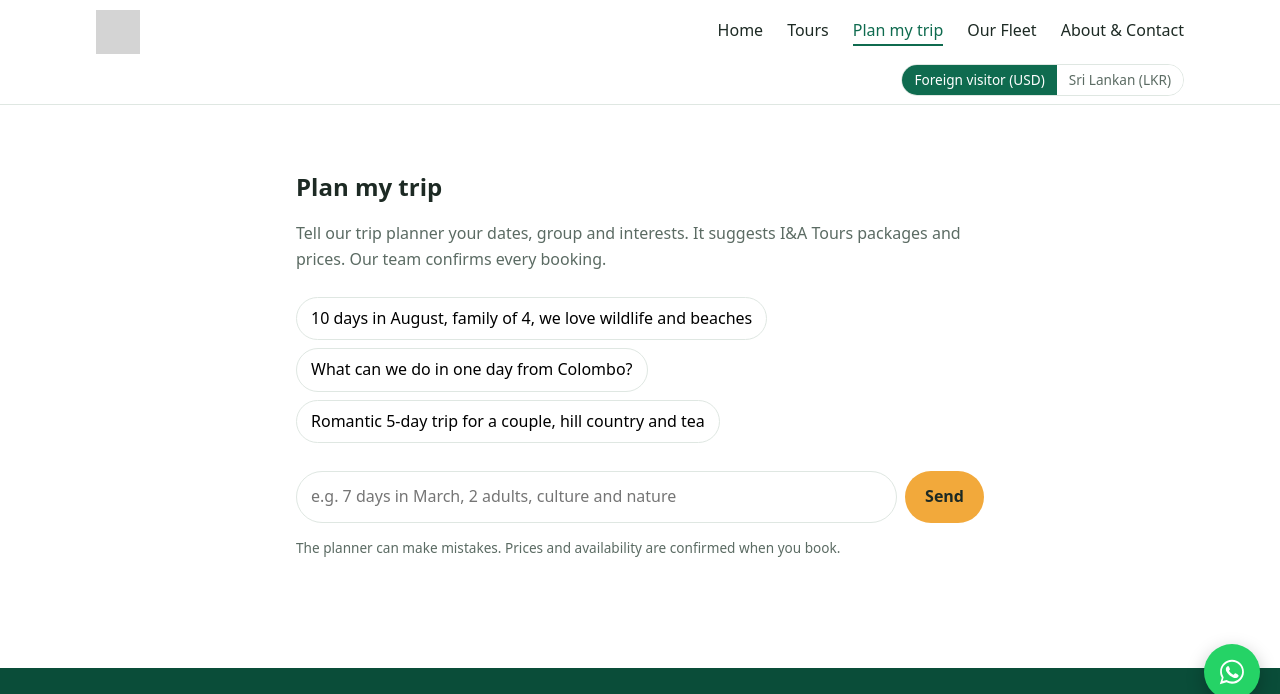
Test: trip planner › chats and links to suggested tours
The image size is (1280, 694).
expect the link "Plan my trip" is shown: met, box top-left (853, 18), bottom-right (943, 46)
Type "We want to see leopards" into the field named "Your message". click: (597, 497)
box: top-left (296, 471), bottom-right (897, 523)
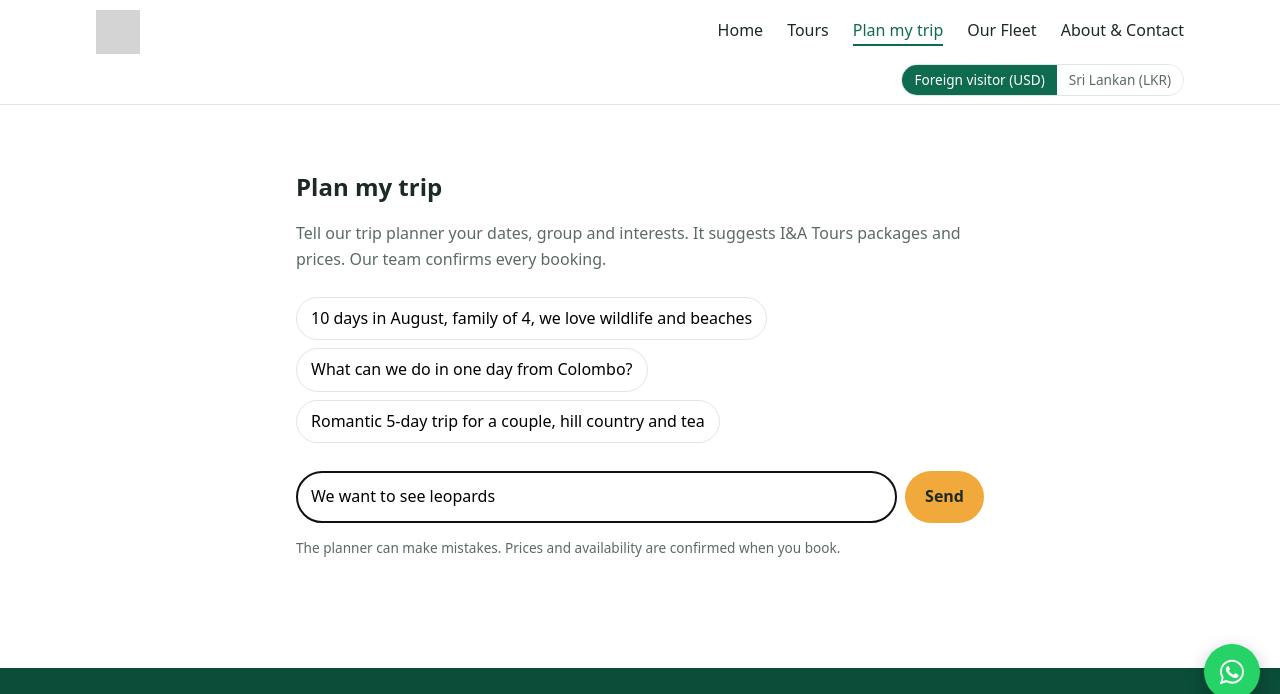
Click the button "Send". click: (945, 497)
box: top-left (905, 471), bottom-right (984, 523)
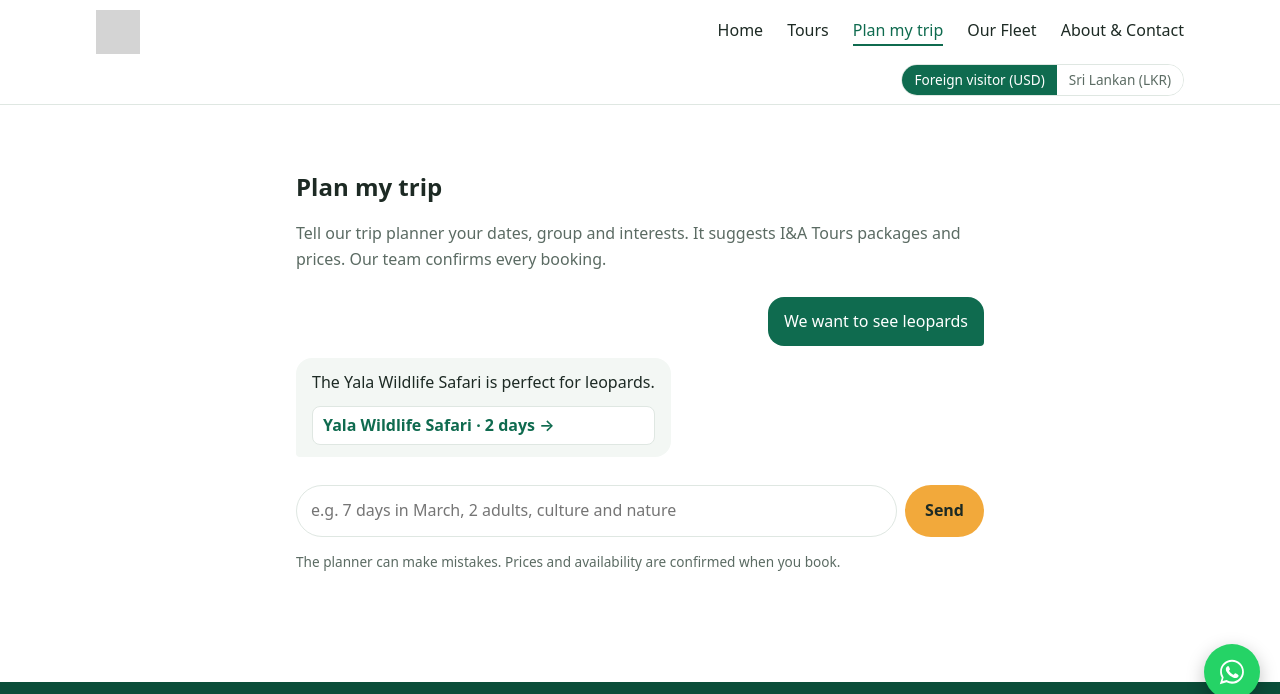
expect the text "The Yala Wildlife Safari is perfect for leopards." is shown: met, box top-left (312, 370), bottom-right (655, 396)
Type "How much?" into the field named "Your message". click: (597, 511)
box: top-left (296, 485), bottom-right (897, 537)
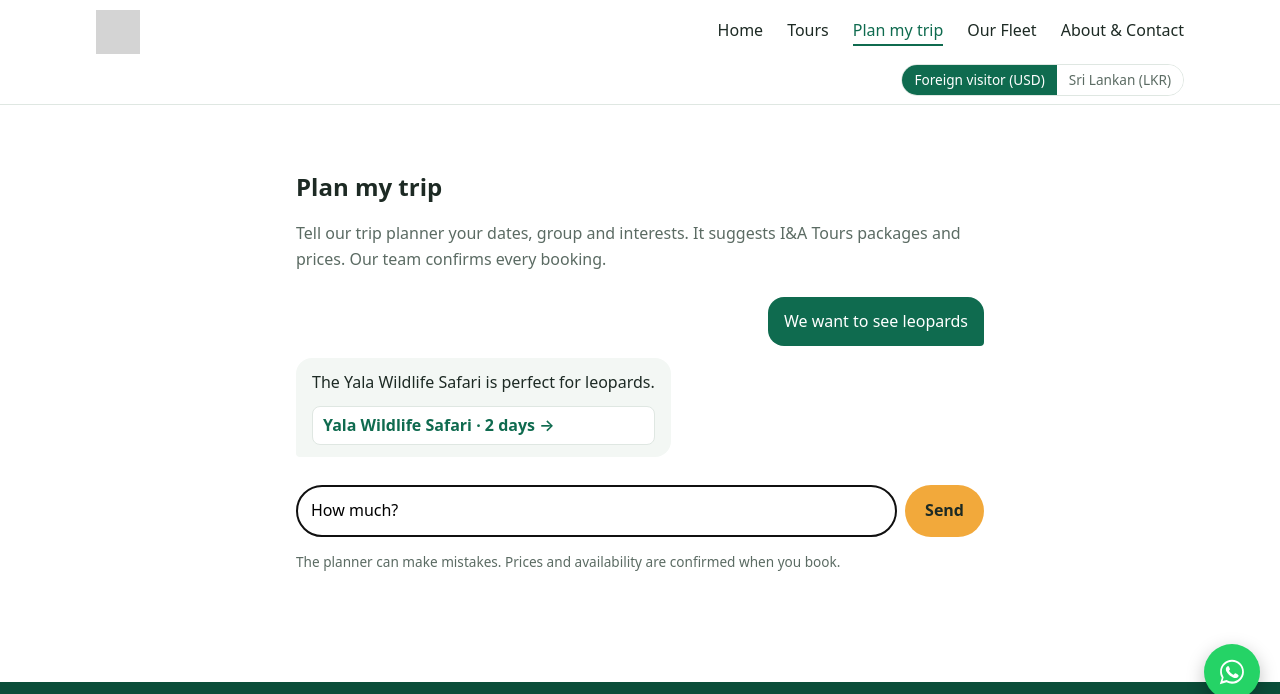
Click the button "Send". click: (945, 511)
box: top-left (905, 485), bottom-right (984, 537)
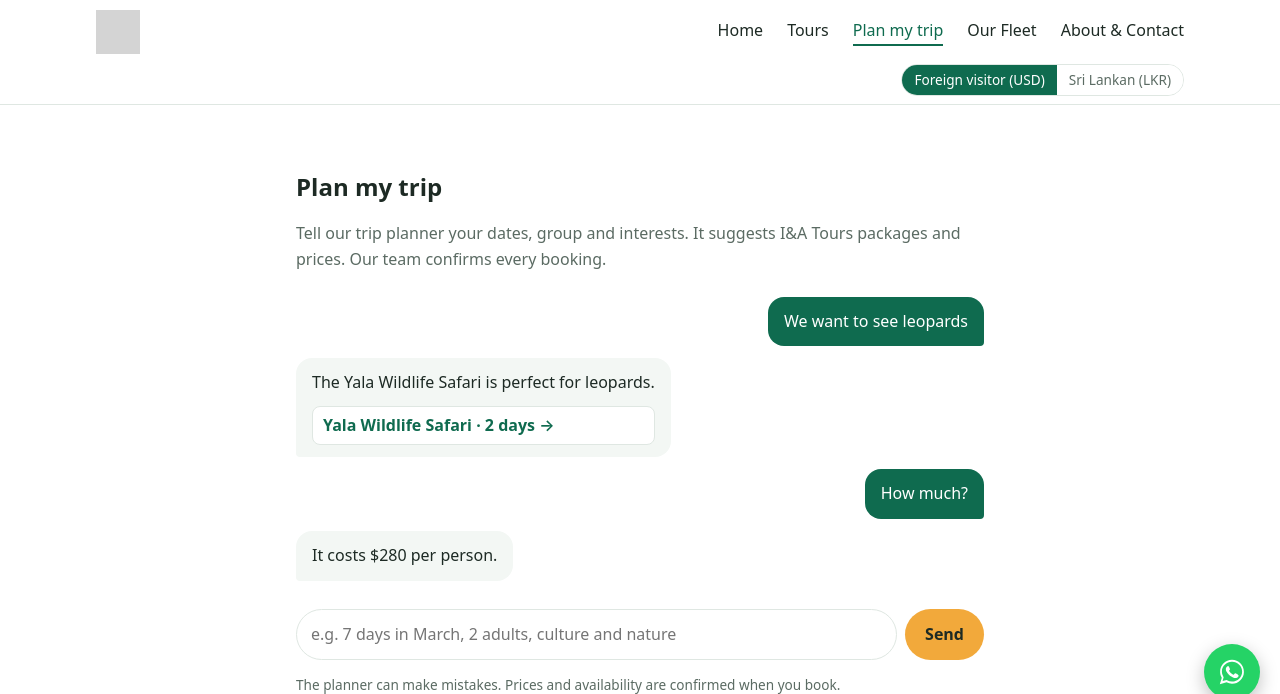
expect the text "It costs $280 per person." is shown: met, box top-left (312, 543), bottom-right (497, 568)
